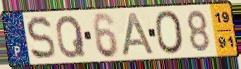6: (91, 11, 120, 60)
8: (185, 8, 213, 54)
A: (120, 12, 157, 57)
O: (153, 9, 186, 56)
Q: (55, 14, 88, 60)
S: (25, 15, 58, 62)
